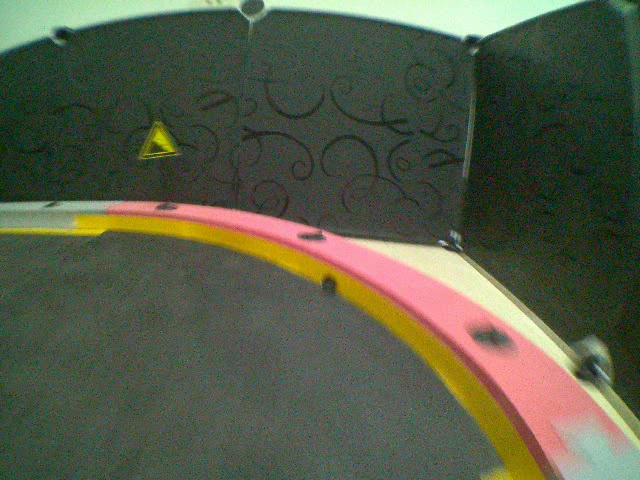fast: (135, 119, 183, 163)
